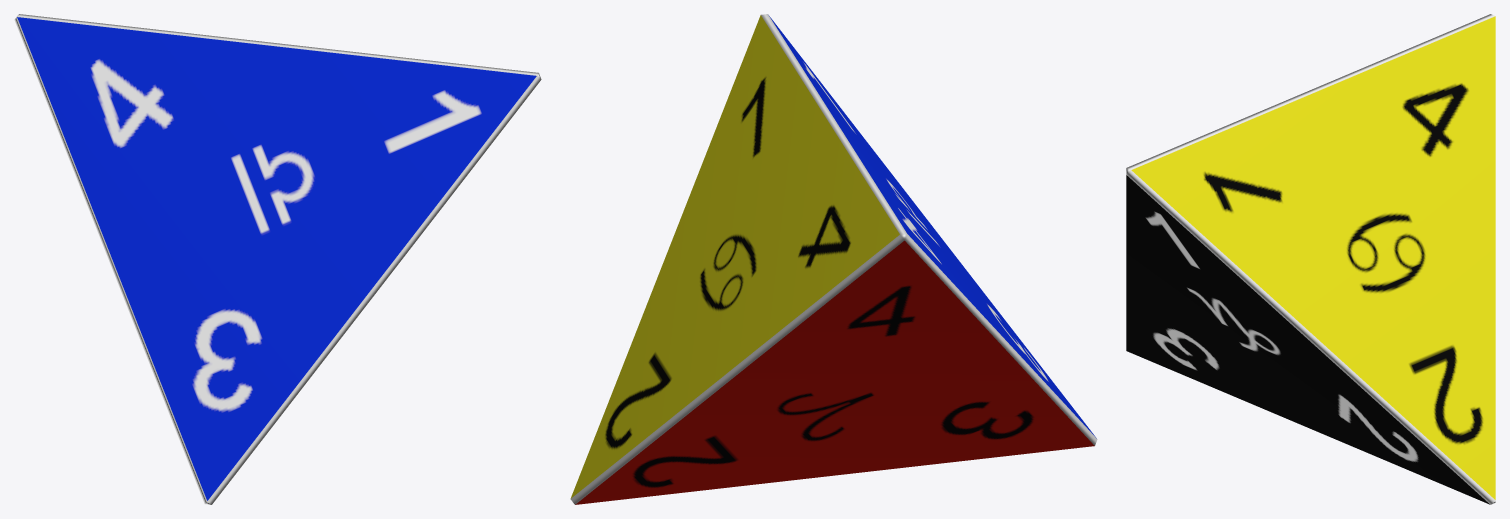
Rendered from DrMalloyDice_d4.glb.
3 renders of one model, left to right at view 1: azimuth 30°, elevation 25°; view 2: azimuth 150°, elevation 25°; view 3: azimuth 270°, elevation 25°, orthographic. The views are drawn at different scales.
Parts seen in each view (by area): view 1: Mesh_0; view 2: Mesh_0; view 3: Mesh_0.
Boxes of the visible parts, bbox=[...] form: Mesh_0: bbox=[14, 14, 541, 504]; Mesh_0: bbox=[570, 14, 1097, 504]; Mesh_0: bbox=[1126, 14, 1495, 504].
Size of the model in its own units: 135 by 135 by 135.
Materials: 2 (1 with a texture image).
